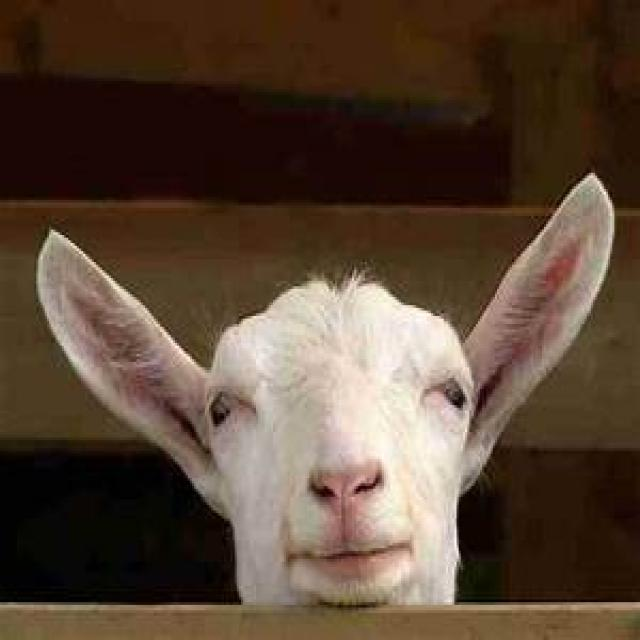animal: (32, 178, 615, 607)
